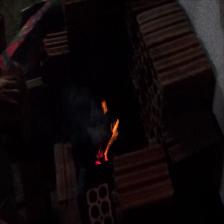fire: (95, 102, 119, 165)
